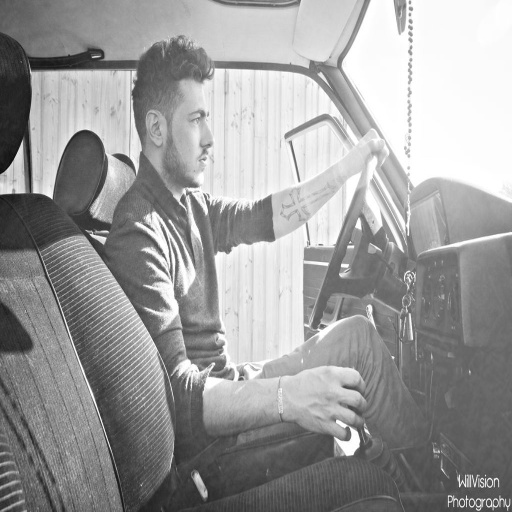hand: (294, 361, 366, 440), (346, 124, 391, 174)
